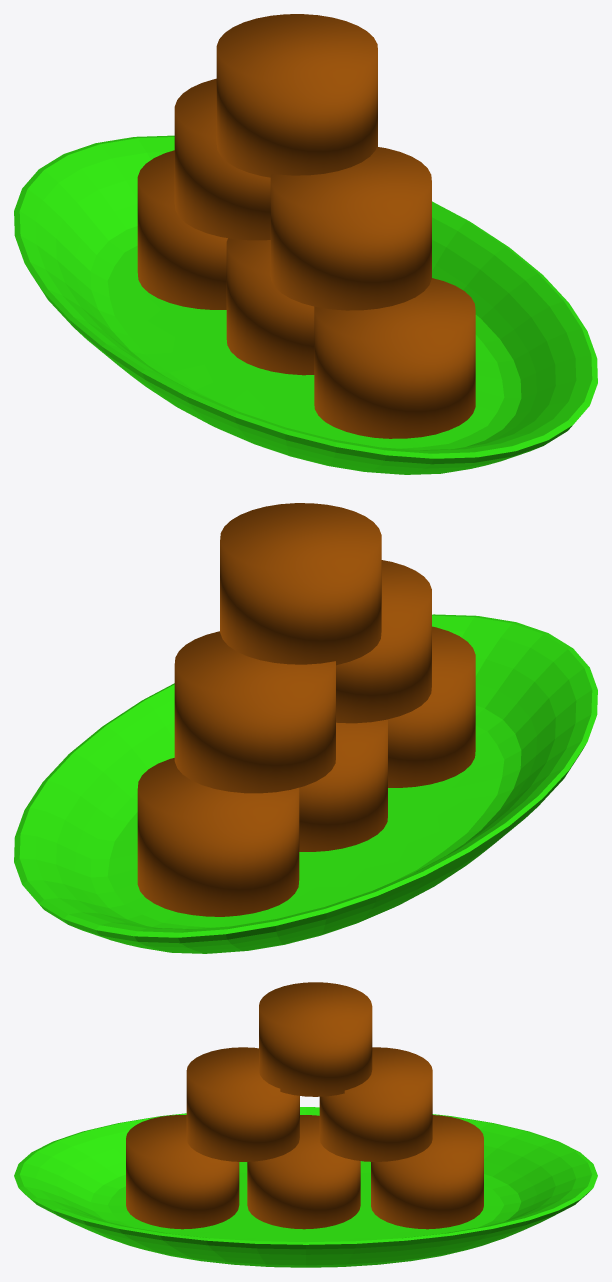
The model's file is kue keranjang.fbx.
The picture shows the model from 3 angles, top to bottom: view 1: azimuth 30°, elevation 25°; view 2: azimuth 150°, elevation 25°; view 3: azimuth 270°, elevation 25°; orthographic projection. The views are drawn at different scales.
Visible parts, largest first — view 1: Cylinder, Cylinder.006, Cylinder.005, Cylinder.001, Cylinder.004, Cylinder.003, Cylinder.002; view 2: Cylinder, Cylinder.006, Cylinder.004, Cylinder.003, Cylinder.005, Cylinder.001, Cylinder.002; view 3: Cylinder, Cylinder.006, Cylinder.005, Cylinder.004, Cylinder.001, Cylinder.003, Cylinder.002.
Boxes of the visible parts, left/top/right/bottom form: Cylinder: left=14, top=135, right=597, bottom=474; Cylinder.006: left=216, top=14, right=377, bottom=177; Cylinder.005: left=270, top=146, right=431, bottom=310; Cylinder.001: left=314, top=278, right=475, bottom=438; Cylinder.004: left=174, top=78, right=270, bottom=240; Cylinder.003: left=137, top=150, right=227, bottom=309; Cylinder.002: left=226, top=238, right=314, bottom=375; Cylinder: left=14, top=614, right=597, bottom=953; Cylinder.006: left=220, top=503, right=381, bottom=665; Cylinder.004: left=174, top=631, right=335, bottom=793; Cylinder.003: left=137, top=758, right=299, bottom=916; Cylinder.005: left=336, top=560, right=431, bottom=723; Cylinder.001: left=388, top=626, right=475, bottom=787; Cylinder.002: left=299, top=719, right=387, bottom=851; Cylinder: left=14, top=1107, right=597, bottom=1267; Cylinder.006: left=259, top=982, right=372, bottom=1096; Cylinder.005: left=186, top=1047, right=299, bottom=1161; Cylinder.004: left=319, top=1047, right=432, bottom=1161; Cylinder.001: left=126, top=1115, right=239, bottom=1229; Cylinder.003: left=371, top=1115, right=483, bottom=1229; Cylinder.002: left=247, top=1115, right=360, bottom=1229.
Size of the model in its own units: 125 by 90.73 by 223.
